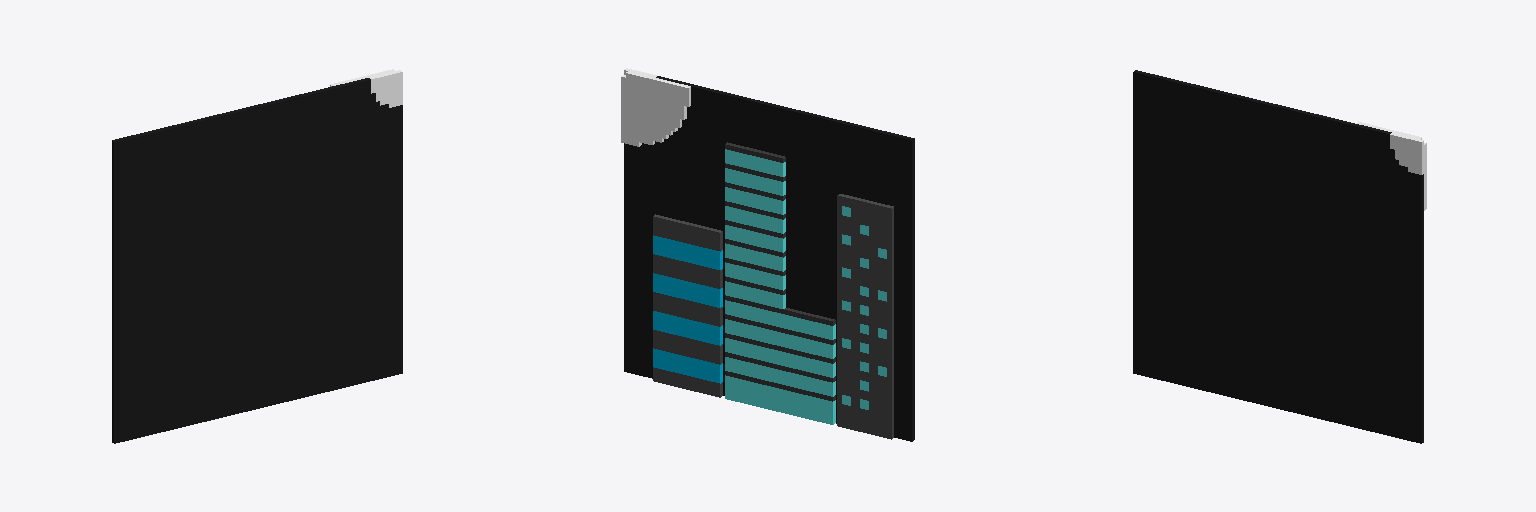
3 renders of one model, left to right at view 1: azimuth 30°, elevation 25°; view 2: azimuth 150°, elevation 25°; view 3: azimuth 330°, elevation 25°, orthographic.
Visible parts, largest first — view 1: 2DTown; view 2: 2DTown; view 3: 2DTown.
Part boxes in pixels (x1,y1,x2,y2): 2DTown: (112, 69, 402, 443); 2DTown: (621, 68, 914, 441); 2DTown: (1133, 70, 1426, 443).
Bounding box in the file's own units: 64 × 64 × 2.
1 materials, 1 textured.